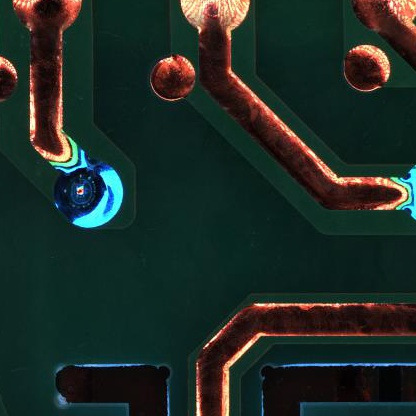spot: (53, 158, 126, 230)
